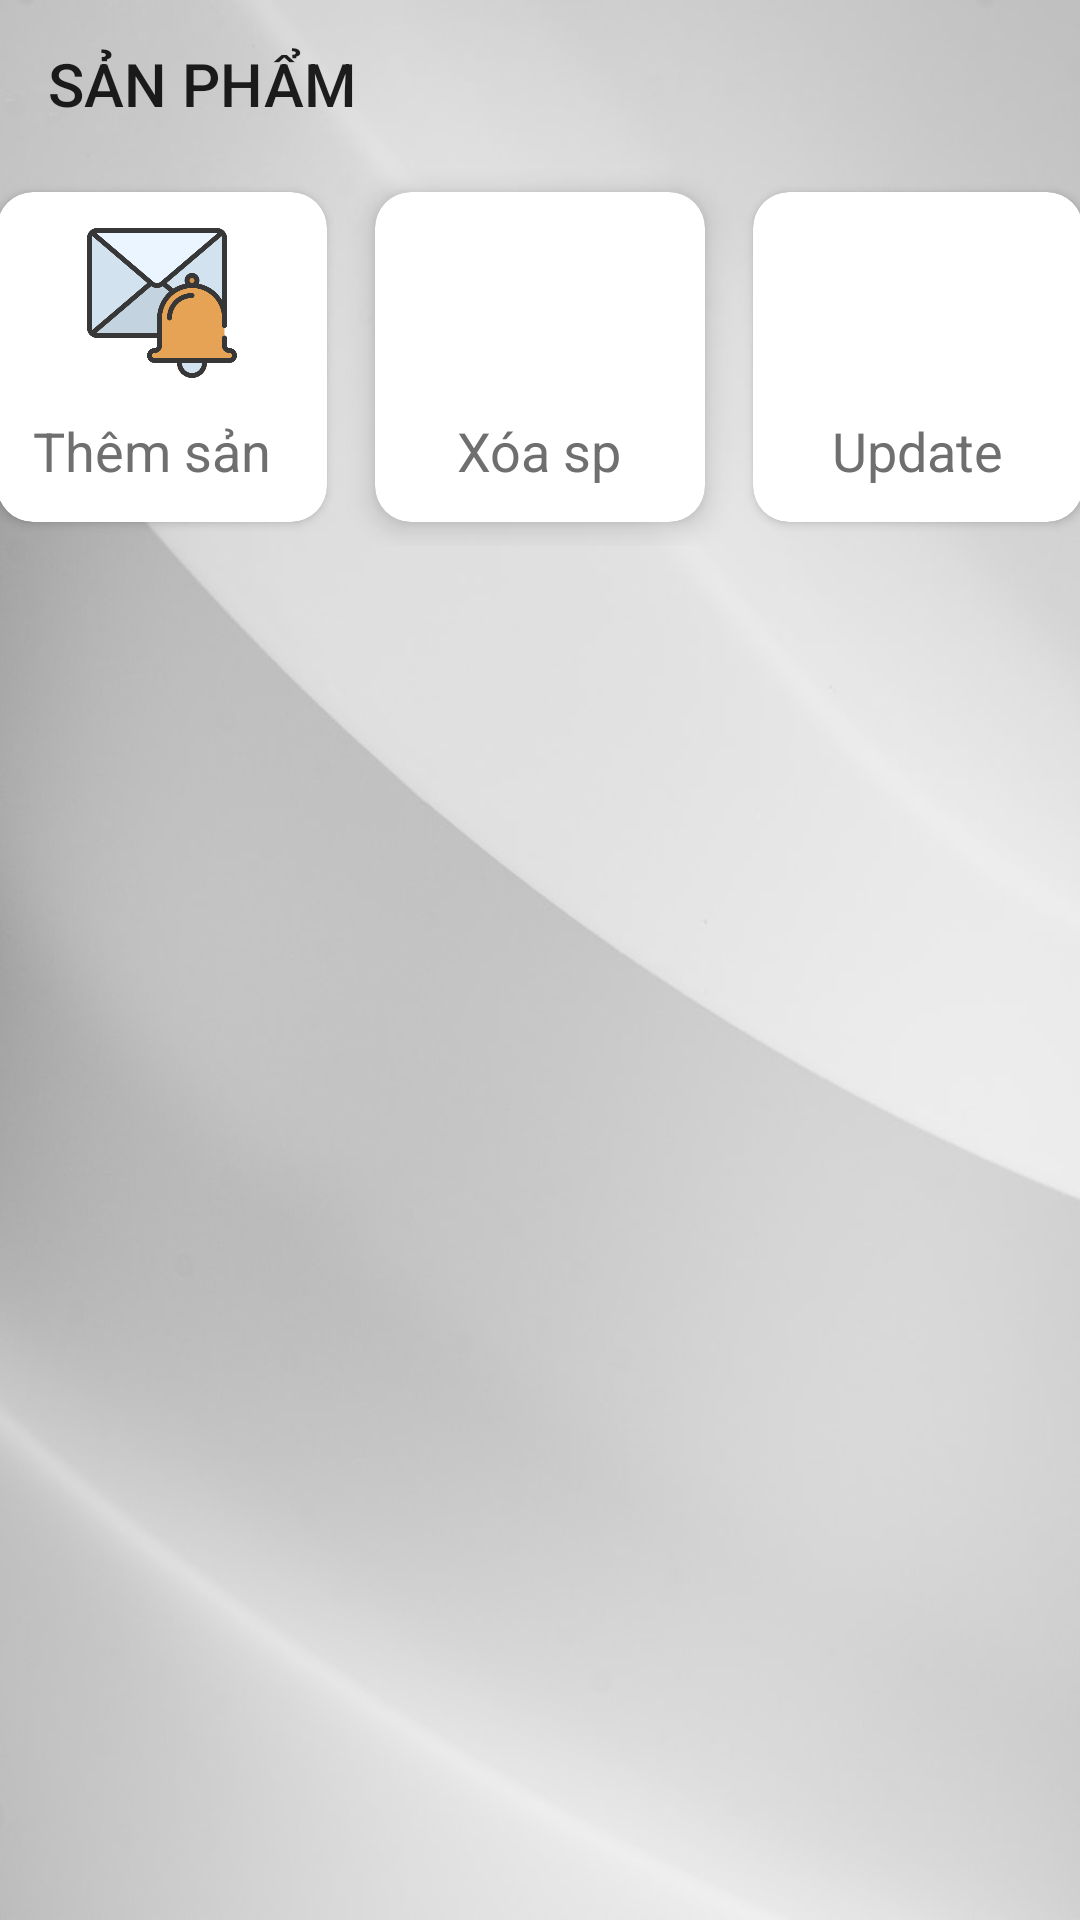

Screen size 1080*1920. Icon name, then its box in pixels as (x1, y1, x2, y2):
manager notification: (87, 228, 237, 378)
